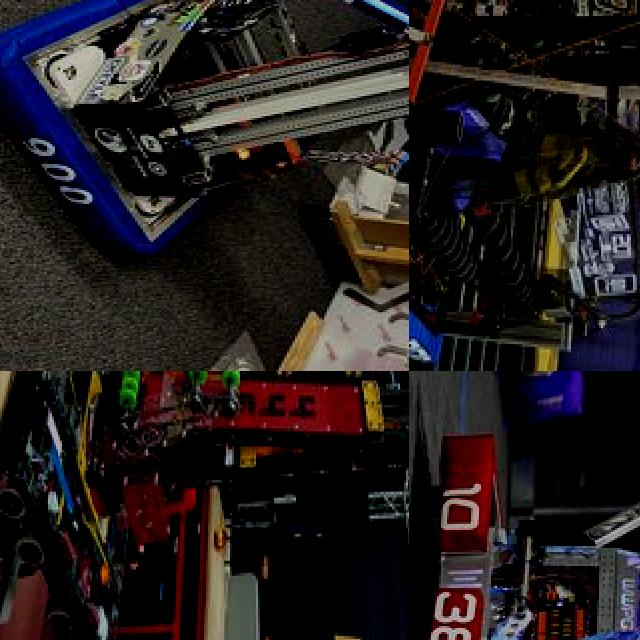FRC-Robots: (0, 0, 409, 342), (0, 371, 409, 640), (409, 0, 640, 371), (409, 465, 640, 640)
